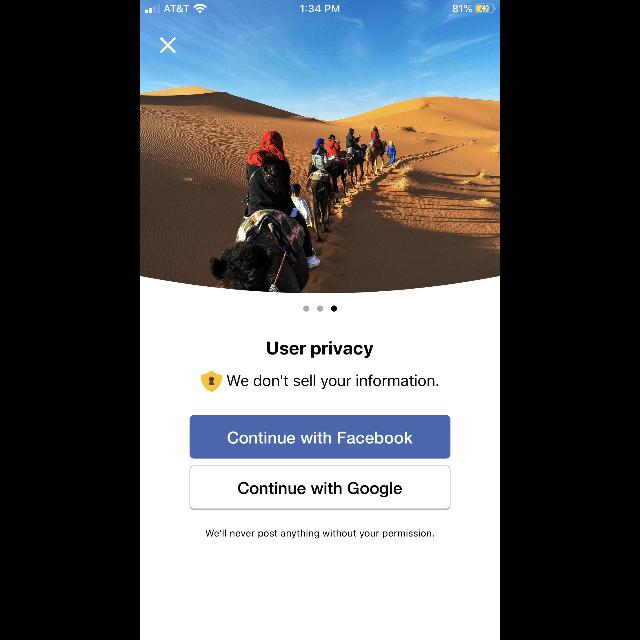icon: (160, 38, 176, 52)
image: (140, 0, 500, 294), (200, 371, 222, 392)
pageindicator: (303, 306, 337, 312)
text: (227, 374, 438, 390), (206, 530, 434, 538), (267, 342, 373, 358)
textbutton: (190, 466, 450, 510), (190, 416, 450, 458)
uppertaskbar: (140, 0, 500, 14)
